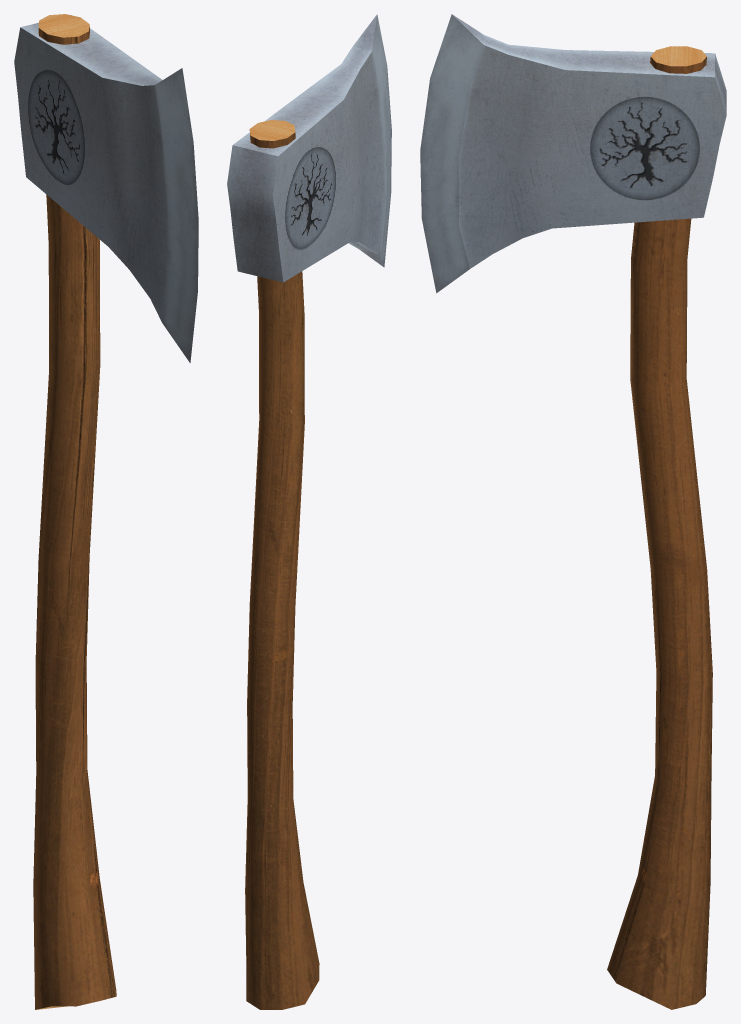
The model's file is axe1.fbx.
3 views of the same model, side by side, from view 1: azimuth 30°, elevation 25°; view 2: azimuth 150°, elevation 25°; view 3: azimuth 270°, elevation 25° (orthographic). The views are drawn at different scales.
Parts seen in each view (by area): view 1: axe1; view 2: axe1; view 3: axe1.
Boxes of the visible parts, left/top/right/bottom form: axe1: left=14, top=14, right=198, bottom=1009; axe1: left=227, top=14, right=391, bottom=1009; axe1: left=420, top=14, right=726, bottom=1009.
Size of the model in its own units: 0.0903 by 1.35 by 0.3806.
